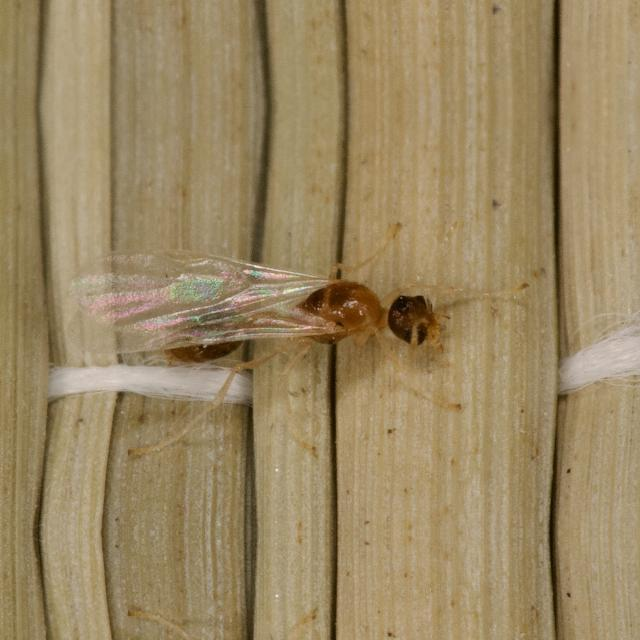Camponotus: (50, 227, 472, 397)
